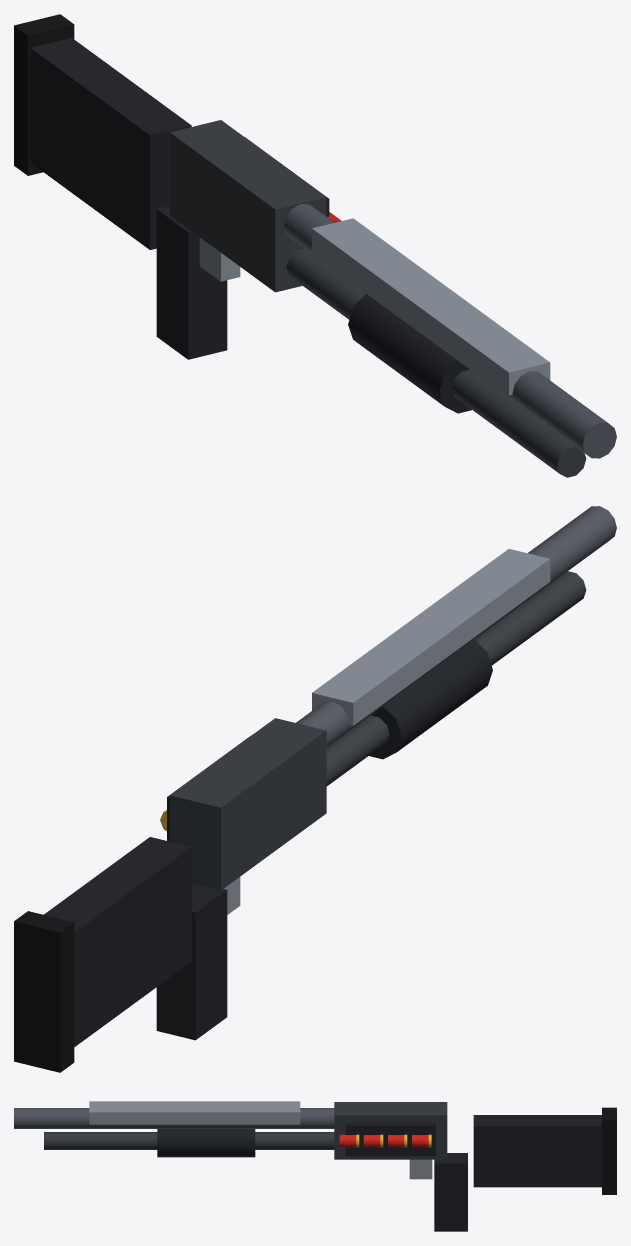
The model's file is shotgun_3d.obj.
The picture shows the model from 3 angles, top to bottom: view 1: azimuth 30°, elevation 25°; view 2: azimuth 150°, elevation 25°; view 3: azimuth 270°, elevation 25°; orthographic projection. The views are drawn at different scales.
Size of the model in its own units: 0.0632 by 0.175 by 0.8.
